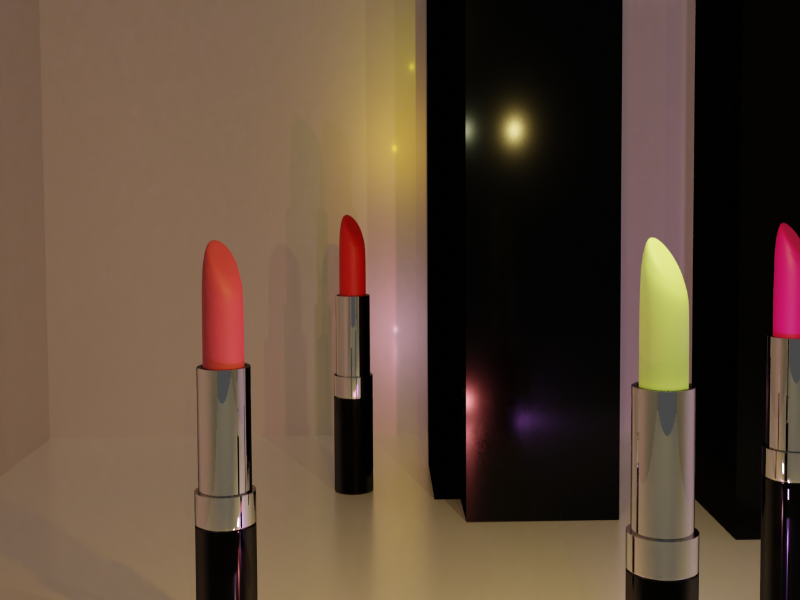lipstick: (642, 232, 707, 600), (196, 233, 257, 599), (332, 209, 377, 494), (770, 218, 792, 600)
